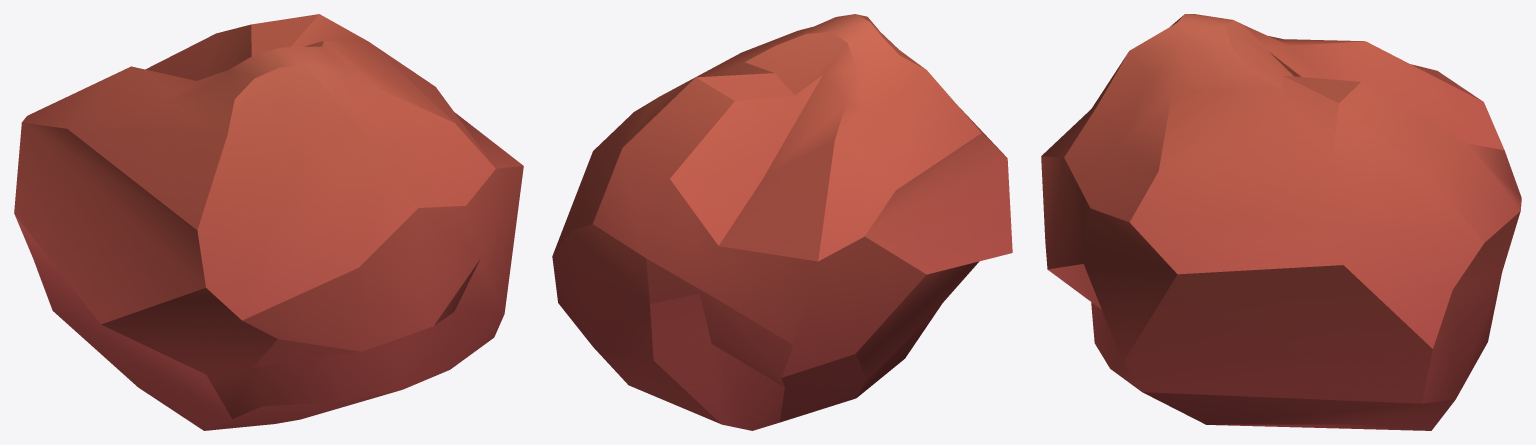
Rendered from Rocks_V03.fbx.
3 renders of one model, left to right at view 1: azimuth 30°, elevation 25°; view 2: azimuth 150°, elevation 25°; view 3: azimuth 270°, elevation 25°, orthographic. The views are drawn at different scales.
Visible parts, largest first — view 1: SM_Rock_V03_C01_01; view 2: SM_Rock_V03_C01_01; view 3: SM_Rock_V03_C01_01.
Boxes of the visible parts, x1,y1,x2,y2 form: SM_Rock_V03_C01_01: (14,14,523,430); SM_Rock_V03_C01_01: (552,14,1012,430); SM_Rock_V03_C01_01: (1041,14,1521,430).
Bounding box in the file's own units: 397 × 334 × 419.
